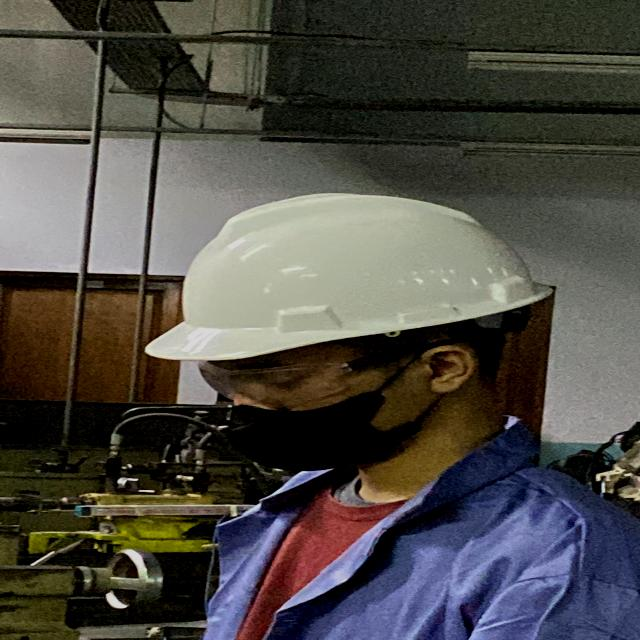face_mask: (189, 359, 427, 475)
glasses: (190, 340, 416, 410)
head_helmet: (136, 190, 564, 361)
